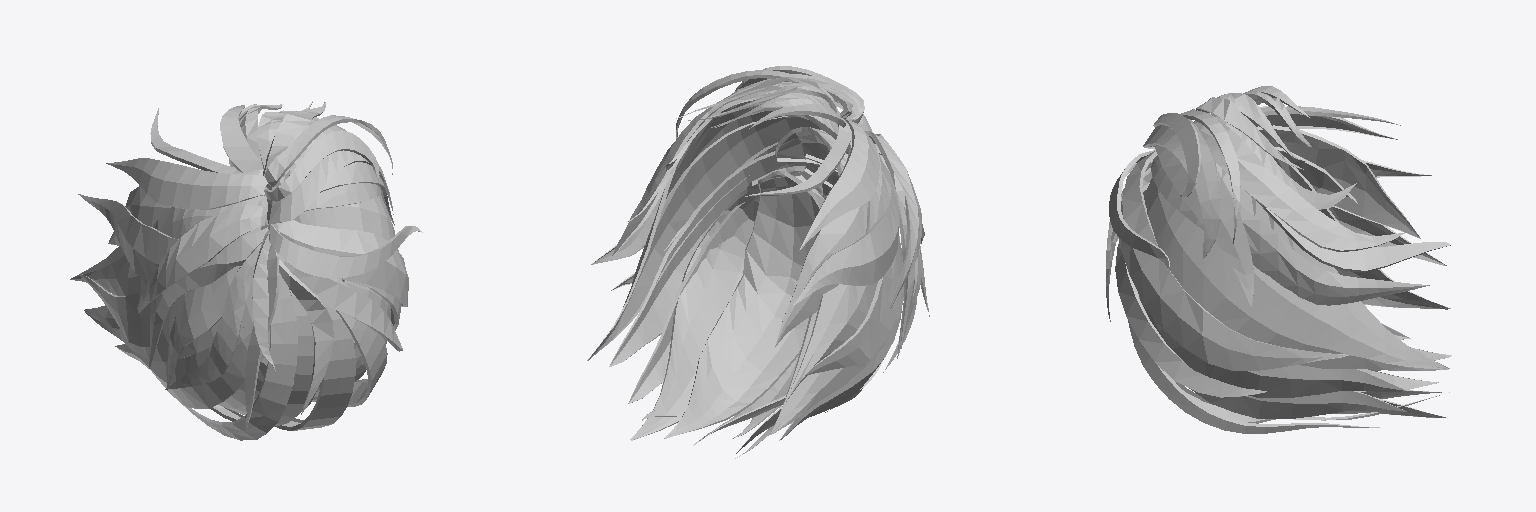
File: Rubberhair_default.003.obj
The picture shows the model from 3 angles: view 1: azimuth 30°, elevation 25°; view 2: azimuth 150°, elevation 25°; view 3: azimuth 270°, elevation 25°; orthographic projection.
Visible parts, largest first — view 1: Rubberhair_default.003; view 2: Rubberhair_default.003; view 3: Rubberhair_default.003.
Part boxes in pixels (x1,y1,x2,y2): Rubberhair_default.003: (70,101,422,440); Rubberhair_default.003: (587,66,929,458); Rubberhair_default.003: (1106,86,1451,433).
Bounding box in the file's own units: 1.7 × 2.06 × 2.05.